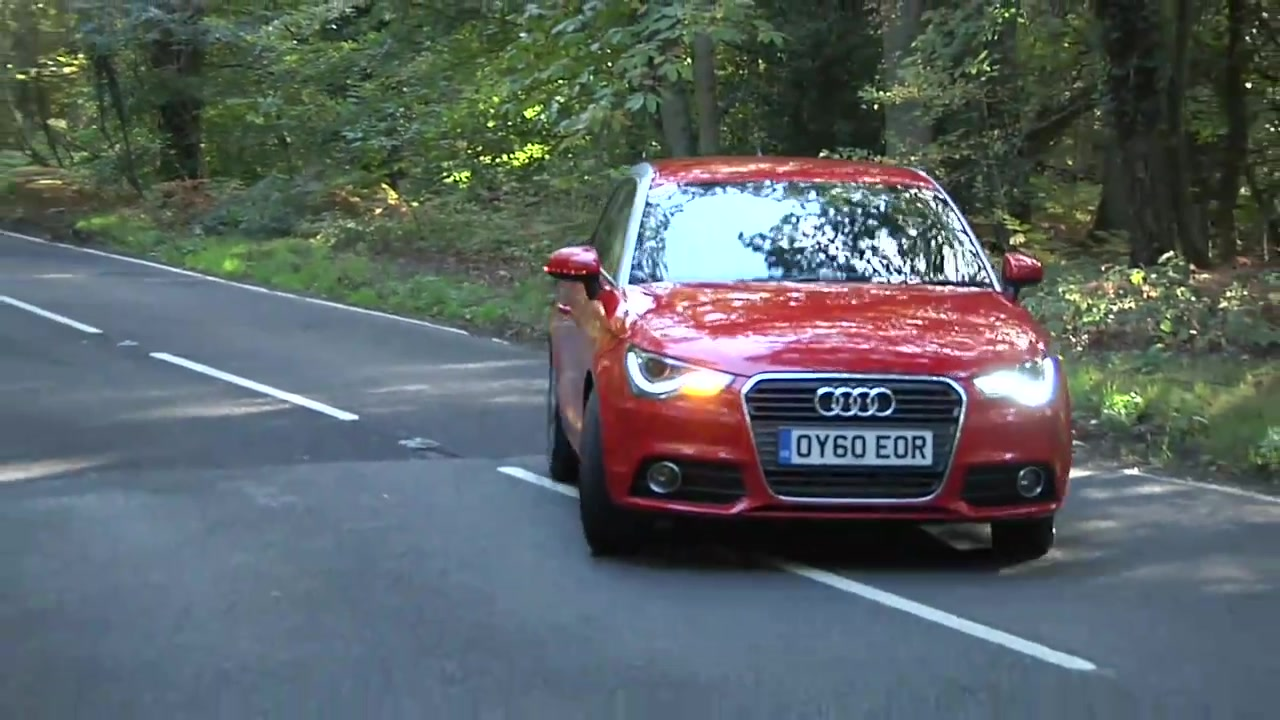car: (544, 155, 1078, 573)
